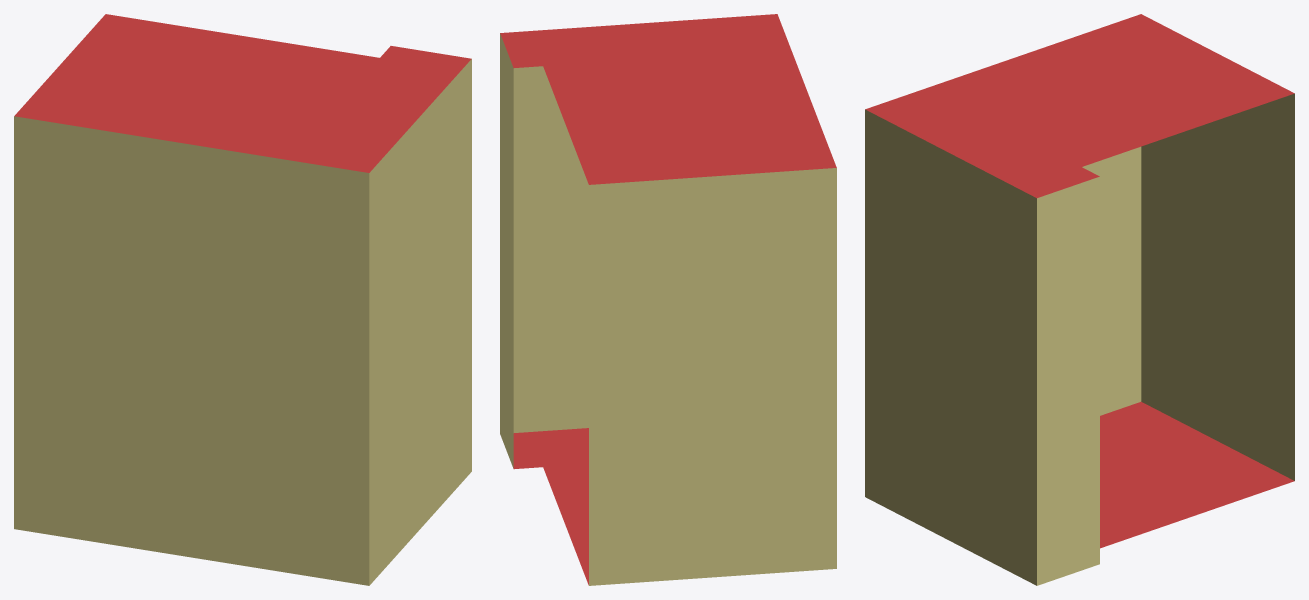
The picture shows the model from 3 angles, left to right: view 1: azimuth 30°, elevation 25°; view 2: azimuth 150°, elevation 25°; view 3: azimuth 270°, elevation 25°; orthographic projection. The views are drawn at different scales.
Bounding box in the file's own units: 8.02 × 7.91 × 7.87.
